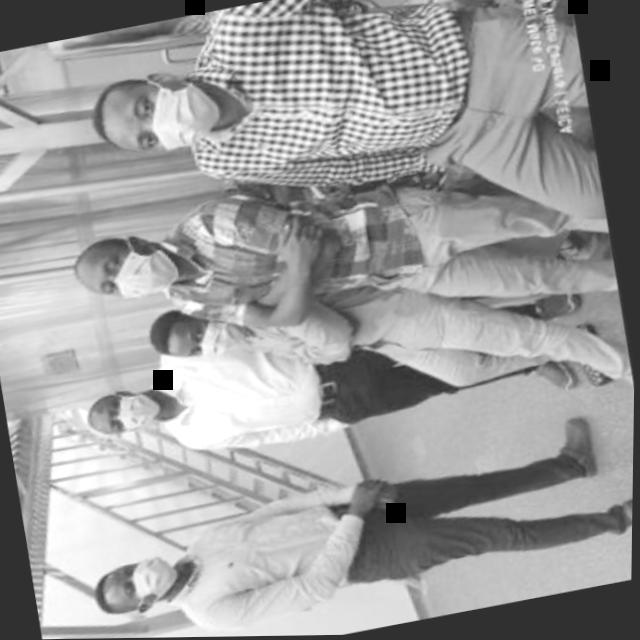Mask: (94, 71, 224, 162), (75, 230, 185, 310), (168, 308, 245, 362), (107, 554, 181, 608), (93, 385, 165, 438)
